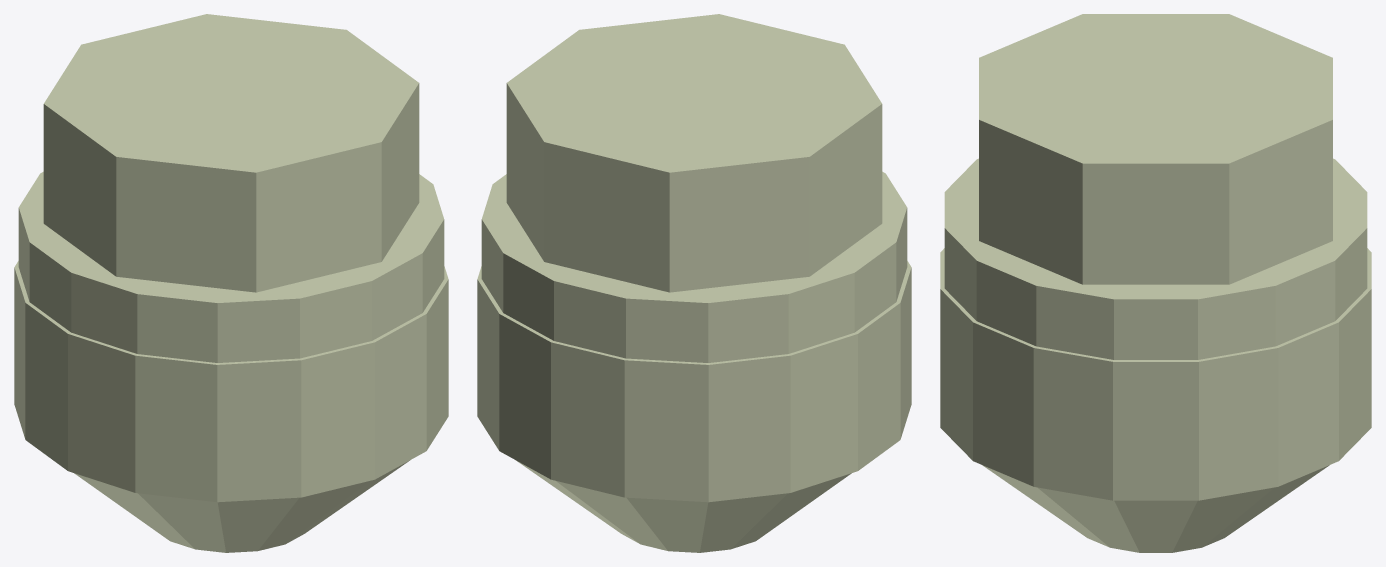
File: Acamar_Lab_1_Collider.obj
3 views of the same model, side by side, from view 1: azimuth 30°, elevation 25°; view 2: azimuth 150°, elevation 25°; view 3: azimuth 270°, elevation 25° (orthographic).
Parts seen in each view (by area): view 1: Acamar_Lab_1_Collider4, Acamar_Lab_1_Collider2, Acamar_Lab_1_Collider3, Acamar_Lab_1_Collider1; view 2: Acamar_Lab_1_Collider4, Acamar_Lab_1_Collider2, Acamar_Lab_1_Collider3, Acamar_Lab_1_Collider1; view 3: Acamar_Lab_1_Collider4, Acamar_Lab_1_Collider2, Acamar_Lab_1_Collider3, Acamar_Lab_1_Collider1.
Boxes of the visible parts, <box> form: Acamar_Lab_1_Collider4: <box>43,14,419,292</box>; Acamar_Lab_1_Collider2: <box>14,261,448,502</box>; Acamar_Lab_1_Collider3: <box>18,171,444,362</box>; Acamar_Lab_1_Collider1: <box>74,460,409,552</box>; Acamar_Lab_1_Collider4: <box>506,14,882,292</box>; Acamar_Lab_1_Collider2: <box>477,261,911,502</box>; Acamar_Lab_1_Collider3: <box>481,171,907,362</box>; Acamar_Lab_1_Collider1: <box>516,460,851,552</box>; Acamar_Lab_1_Collider4: <box>979,14,1332,284</box>; Acamar_Lab_1_Collider2: <box>940,248,1371,500</box>; Acamar_Lab_1_Collider3: <box>944,158,1367,359</box>; Acamar_Lab_1_Collider1: <box>982,465,1329,552</box>.
Size of the model in its own units: 2.5 by 2.75 by 2.5.
